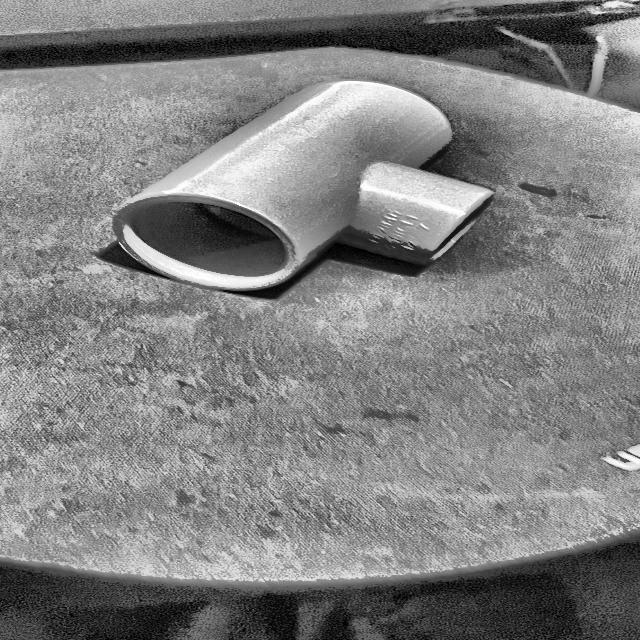EQUALTEE: (112, 80, 493, 295)
